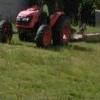Tractor: (5, 2, 76, 49)
